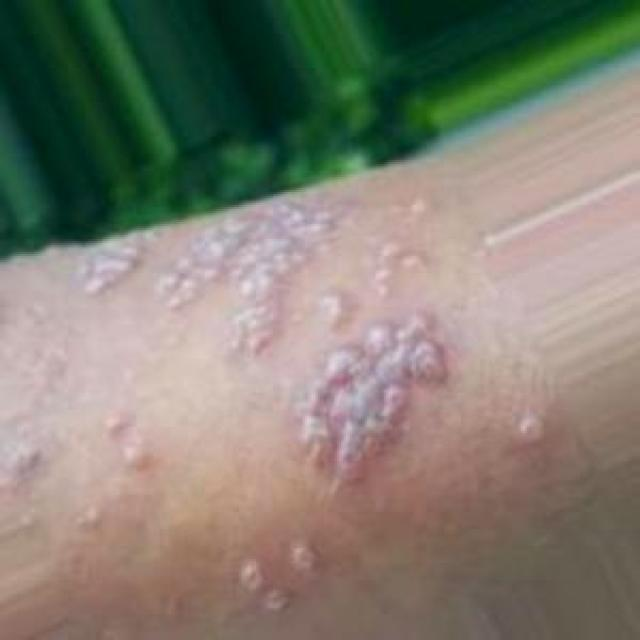Shingles: (76, 185, 474, 470), (231, 531, 319, 616), (509, 408, 551, 449)
